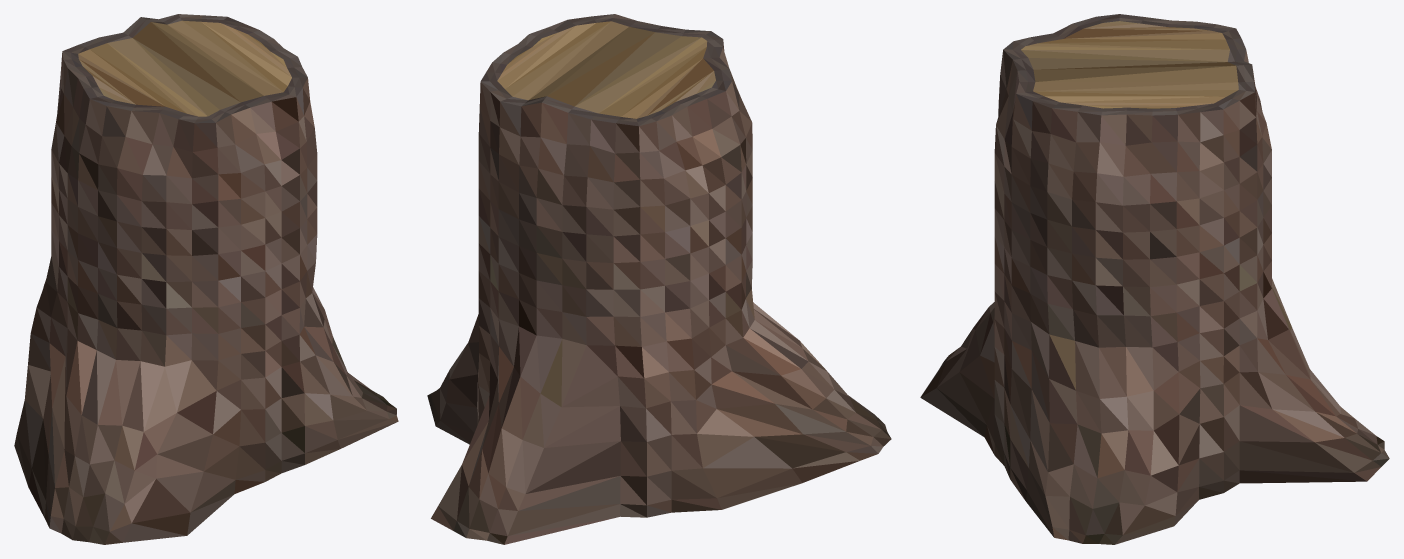
Rendered from r32_stumpf_6.glb.
3 renders of one model, left to right at view 1: azimuth 30°, elevation 25°; view 2: azimuth 150°, elevation 25°; view 3: azimuth 270°, elevation 25°, orthographic. The views are drawn at different scales.
Visible parts, largest first — view 1: stumpf; view 2: stumpf; view 3: stumpf.
Part boxes in pixels (x1,y1,x2,y2): stumpf: [14, 14, 398, 544]; stumpf: [427, 14, 891, 544]; stumpf: [920, 14, 1389, 544].
Bounding box in the file's own units: 1.08 × 1 × 1.09.
